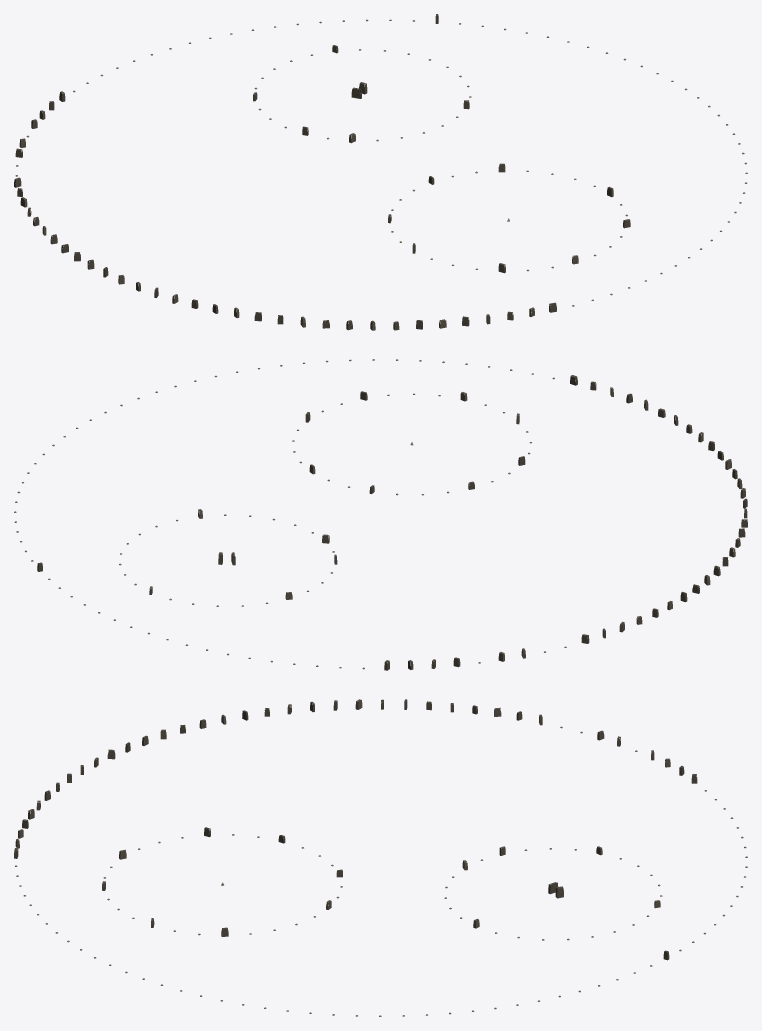
File: avebury-ruin.glb
The picture shows the model from 3 angles, top to bottom: view 1: azimuth 30°, elevation 25°; view 2: azimuth 150°, elevation 25°; view 3: azimuth 270°, elevation 25°; orthographic projection.
Size of the model in its own units: 33.38 by 0.48 by 33.3.
Materials: 4 (4 with a texture image).
